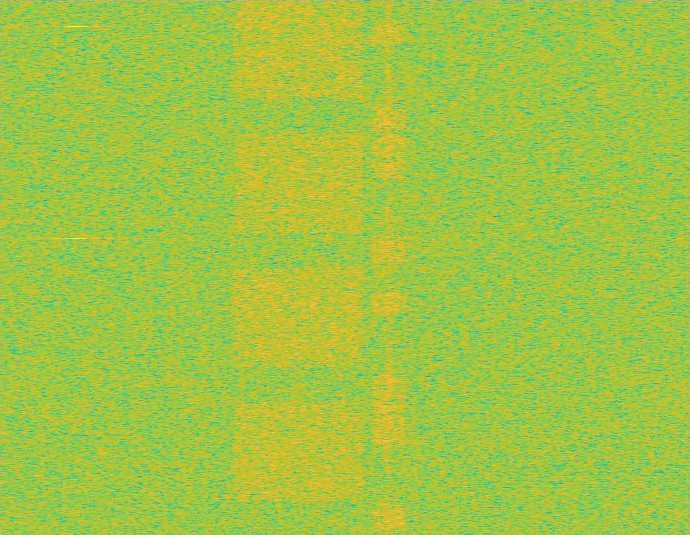5G: (230, 0, 368, 534)
DSSS: (385, 0, 393, 534)
LTE: (372, 0, 406, 534)
Radar: (69, 0, 83, 534)
